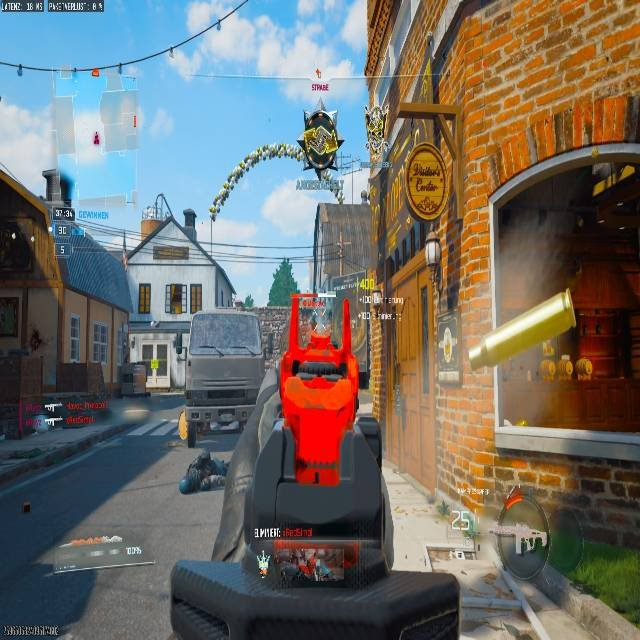head: (305, 107, 332, 128)
player: (296, 110, 344, 203)
